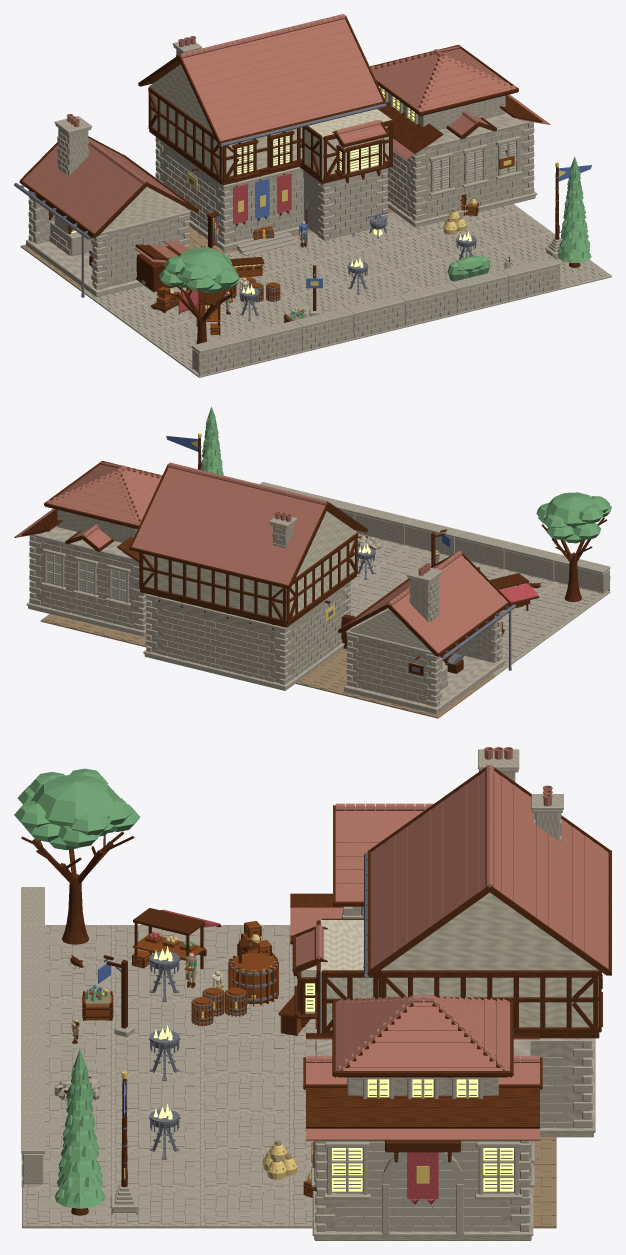
Rendered from fantasy-mmo-city-and-townsfolk-guild-yard-and-forge-10e99a01__32799.glb.
The picture shows the model from 3 angles, top to bottom: view 1: azimuth 30°, elevation 25°; view 2: azimuth 150°, elevation 25°; view 3: azimuth 270°, elevation 25°; orthographic projection. The views are drawn at different scales.
Parts seen in each view (by area): view 1: 048-adventurers-guild-hall/3, 048-adventurers-guild-hall/0, 050-auction-house/0, 049-city-smithy/0, 048-adventurers-guild-hall/1, 049-city-smithy/2, 050-auction-house/4, 048-adventurers-guild-hall/2, 050-auction-house/3, 084-city-broadleaf-tree/1, 049-city-smithy/1, 085-cypress-tree/1 (+37 smaller); view 2: 048-adventurers-guild-hall/3, 048-adventurers-guild-hall/0, 049-city-smithy/0, 050-auction-house/0, 048-adventurers-guild-hall/1, 048-adventurers-guild-hall/2, 049-city-smithy/2, 050-auction-house/4, 084-city-broadleaf-tree/1, 050-auction-house/3, 049-city-smithy/1, 052-retaining-wall-bay/0 (+21 smaller); view 3: 048-adventurers-guild-hall/3, 050-auction-house/0, 050-auction-house/4, 048-adventurers-guild-hall/2, 050-auction-house/3, 048-adventurers-guild-hall/1, 084-city-broadleaf-tree/1, 048-adventurers-guild-hall/0, 049-city-smithy/2, 085-cypress-tree/1, 045-paved-street-tile/0, 027-paved-street-tile/0 (+49 smaller).
Part boxes in pixels (box(x1,y1,x2,y2)): 048-adventurers-guild-hall/3: box(178, 14, 386, 143); 048-adventurers-guild-hall/0: box(155, 40, 388, 255); 050-auction-house/0: box(380, 87, 537, 227); 049-city-smithy/0: box(26, 116, 190, 297); 048-adventurers-guild-hall/1: box(138, 15, 393, 186); 049-city-smithy/2: box(22, 114, 188, 262); 050-auction-house/4: box(370, 46, 550, 159); 048-adventurers-guild-hall/2: box(149, 64, 392, 179); 050-auction-house/3: box(370, 44, 542, 153); 084-city-broadleaf-tree/1: box(159, 247, 239, 292); 049-city-smithy/1: box(19, 136, 198, 291); 085-cypress-tree/1: box(558, 156, 591, 263); 048-adventurers-guild-hall/3: box(132, 462, 328, 584); 048-adventurers-guild-hall/0: box(143, 516, 351, 690); 049-city-smithy/0: box(344, 565, 504, 714); 050-auction-house/0: box(26, 509, 147, 636); 048-adventurers-guild-hall/1: box(129, 463, 367, 629); 048-adventurers-guild-hall/2: box(143, 511, 357, 620); 049-city-smithy/2: box(350, 551, 507, 652); 050-auction-house/4: box(14, 462, 161, 562); 084-city-broadleaf-tree/1: box(536, 492, 611, 543); 050-auction-house/3: box(21, 461, 162, 561); 049-city-smithy/1: box(338, 552, 510, 673); 052-retaining-wall-bay/0: box(504, 542, 560, 581); 048-adventurers-guild-hall/3: box(296, 764, 608, 968); 050-auction-house/0: box(311, 1039, 534, 1240); 050-auction-house/4: box(306, 995, 539, 1140); 048-adventurers-guild-hall/2: box(300, 892, 598, 1033); 050-auction-house/3: box(303, 999, 542, 1162); 048-adventurers-guild-hall/1: box(292, 767, 611, 1038); 084-city-broadleaf-tree/1: box(14, 768, 140, 850); 048-adventurers-guild-hall/0: box(530, 794, 595, 1137); 049-city-smithy/2: box(290, 747, 512, 936); 085-cypress-tree/1: box(54, 1049, 105, 1208); 045-paved-street-tile/0: box(200, 1188, 289, 1228); 027-paved-street-tile/0: box(200, 1075, 289, 1113).
Bounding box in the file's own units: 35.64 × 13.04 × 26.85.
15 materials, 7 textured.
